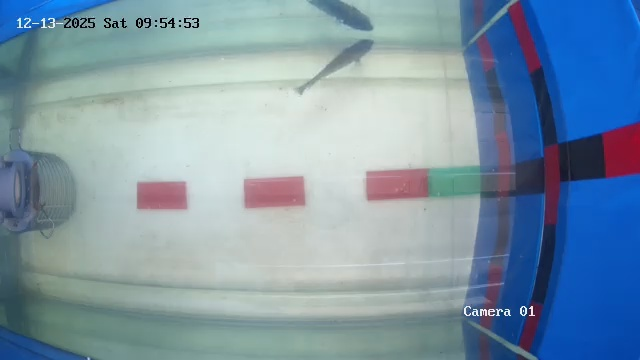fish: (301, 33, 388, 109)
